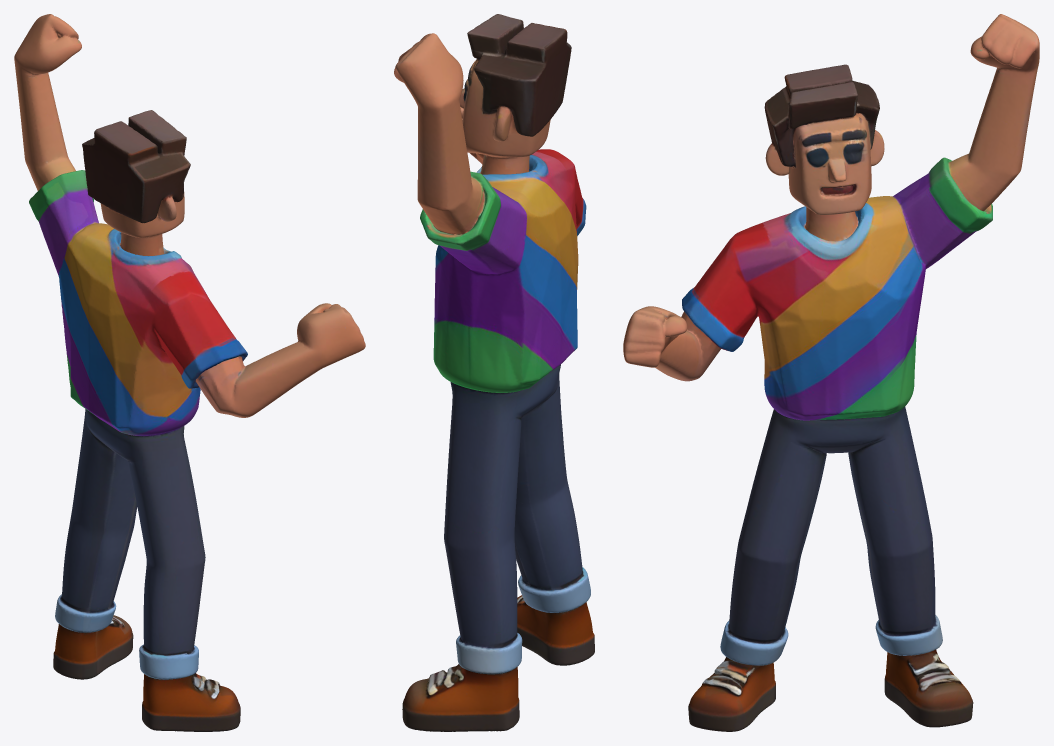
File: stylized-football-fan-spectator-cheering-colorful.glb
The picture shows the model from 3 angles, left to right: view 1: azimuth 30°, elevation 25°; view 2: azimuth 150°, elevation 25°; view 3: azimuth 270°, elevation 25°; orthographic projection. The views are drawn at different scales.
Visible parts, largest first — view 1: tripo_node_0978513a-b63a-4faf-a9dd-e143e55a757c; view 2: tripo_node_0978513a-b63a-4faf-a9dd-e143e55a757c; view 3: tripo_node_0978513a-b63a-4faf-a9dd-e143e55a757c.
Part boxes in pixels (bbox=[...]): tripo_node_0978513a-b63a-4faf-a9dd-e143e55a757c: bbox=[14, 14, 365, 731]; tripo_node_0978513a-b63a-4faf-a9dd-e143e55a757c: bbox=[394, 14, 594, 731]; tripo_node_0978513a-b63a-4faf-a9dd-e143e55a757c: bbox=[623, 14, 1039, 731].
Bounding box in the file's own units: 0.3117 × 1 × 0.5488.
Materials: 1 (1 with a texture image).
